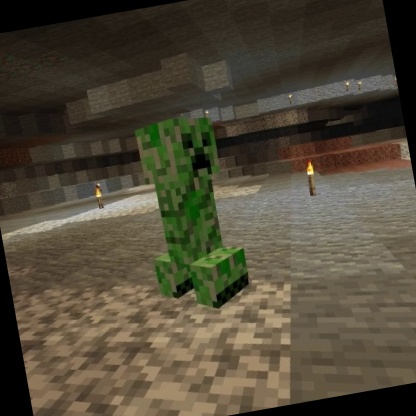creeper: (127, 106, 257, 322)
